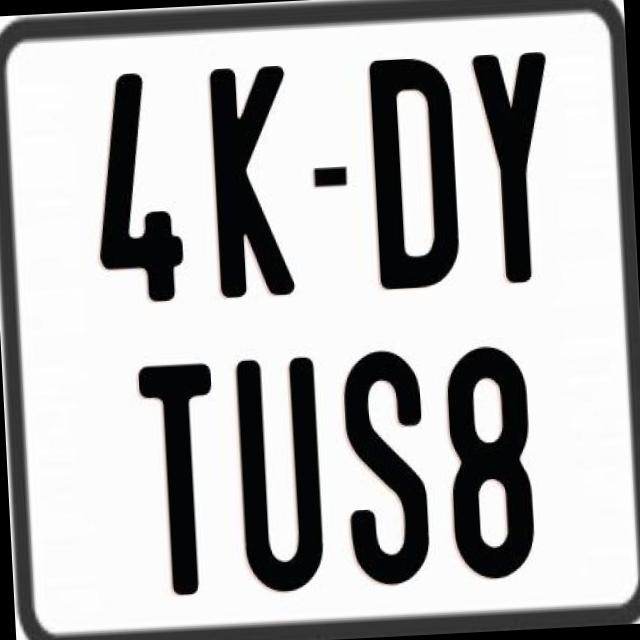4: (89, 66, 185, 302)
8: (440, 340, 540, 576)
D: (365, 54, 463, 292)
K: (206, 61, 300, 302)
S: (338, 348, 428, 592)
T: (137, 362, 220, 598)
U: (232, 356, 328, 593)
Y: (470, 52, 560, 290)
